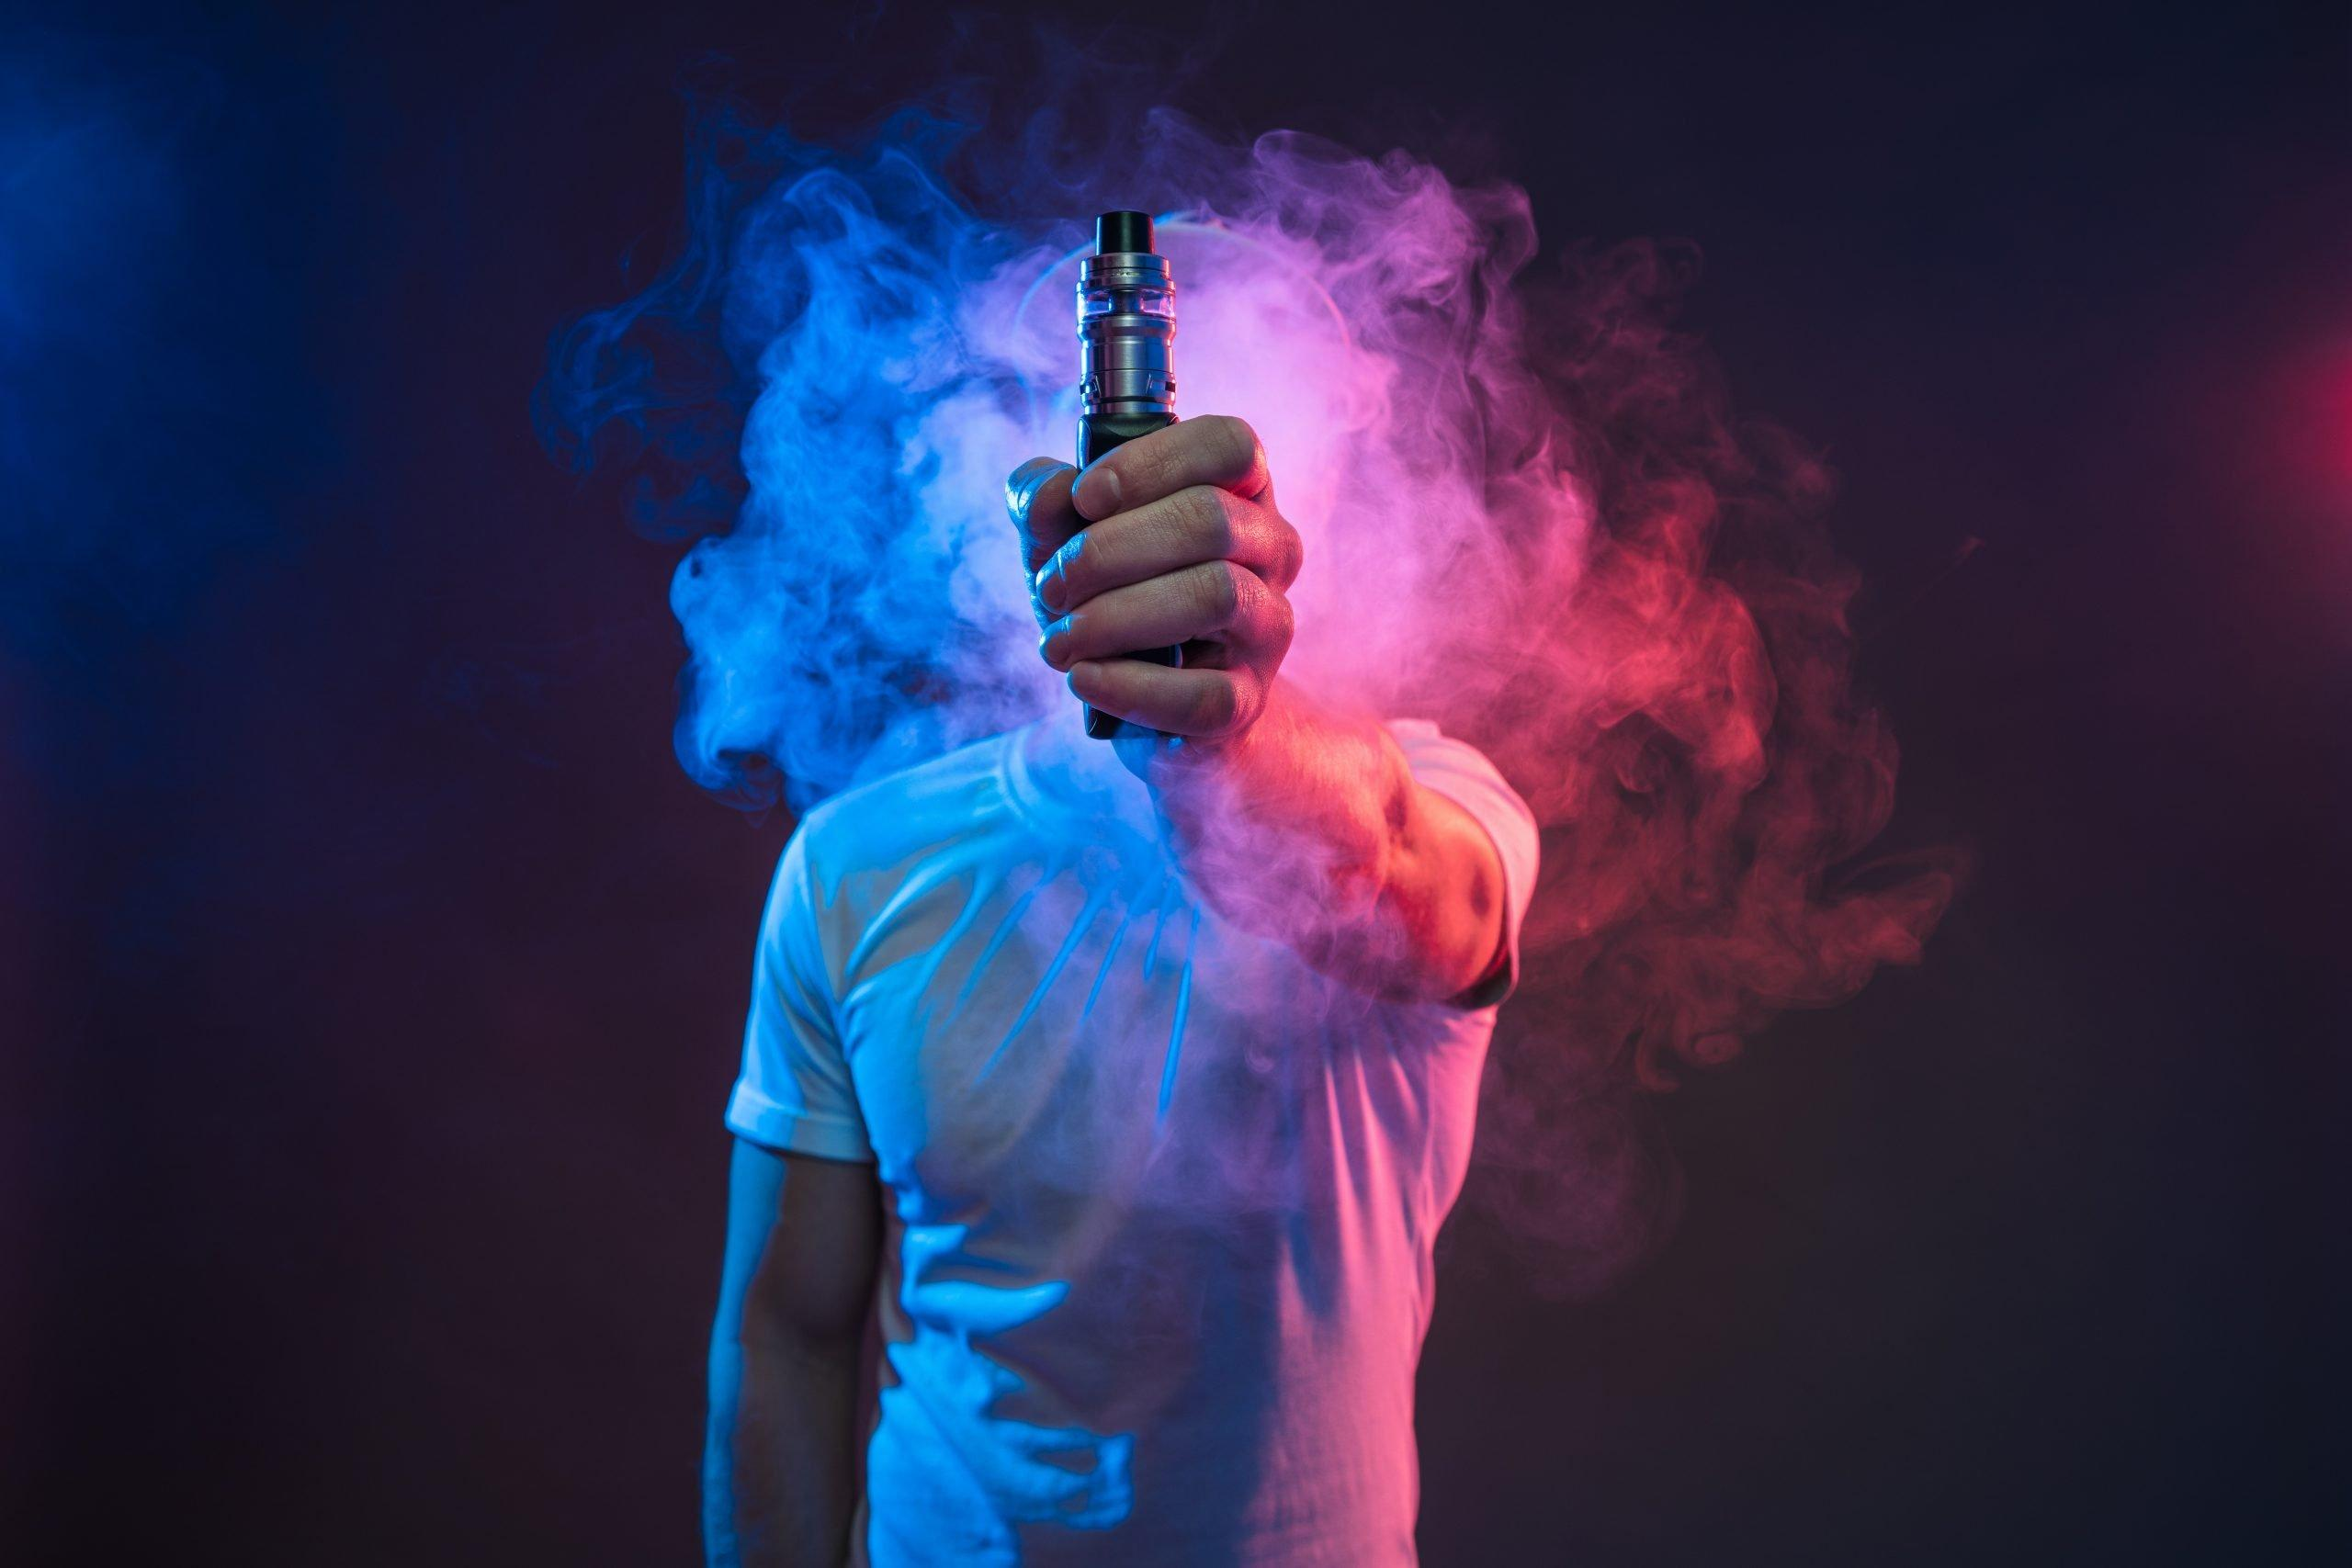Vape: (1073, 210, 1183, 740)
